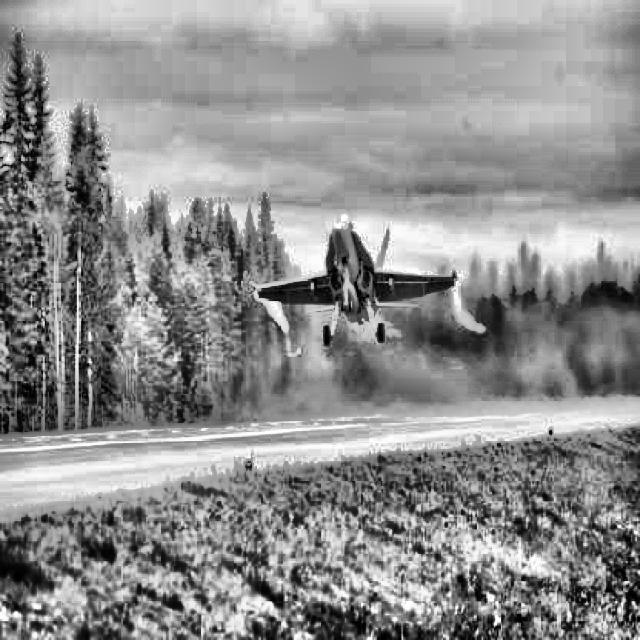F18: (250, 213, 459, 345)
